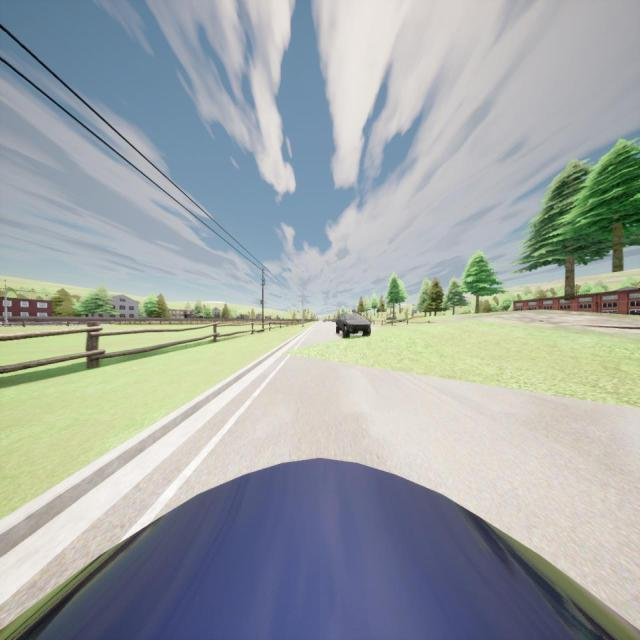Vehicle: (0, 457, 640, 640), (336, 312, 370, 337)
